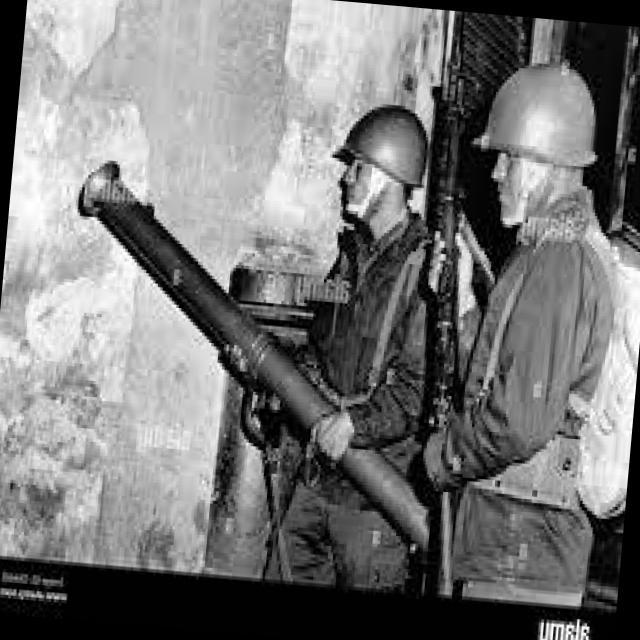rocket: (49, 154, 470, 562)
